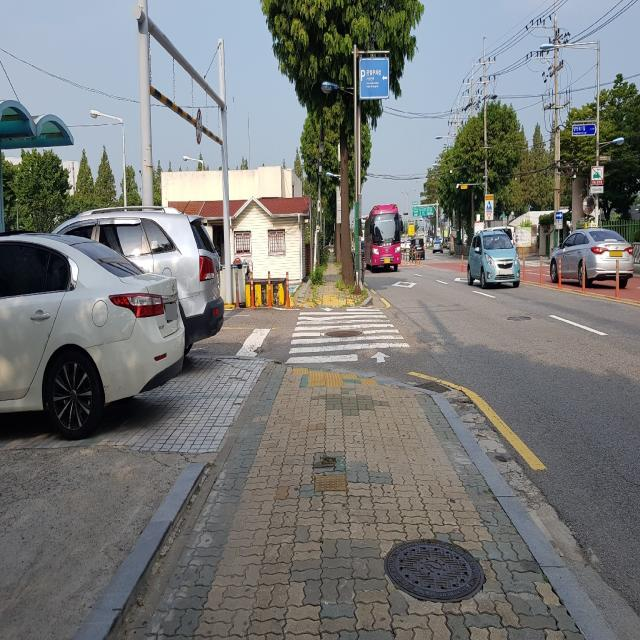횡단보도: (286, 306, 410, 366)
